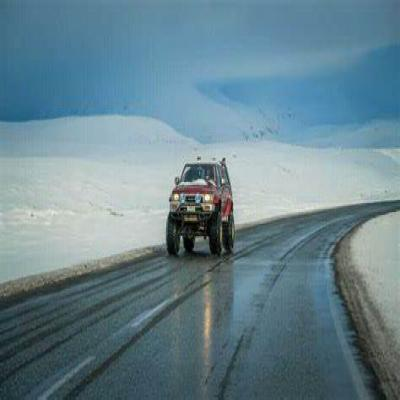iced-road: (0, 202, 397, 400)
